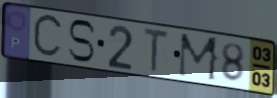2: (107, 23, 135, 73)
8: (219, 42, 247, 84)
C: (31, 12, 66, 61)
M: (176, 32, 221, 84)
S: (66, 18, 98, 64)
T: (142, 26, 171, 75)
